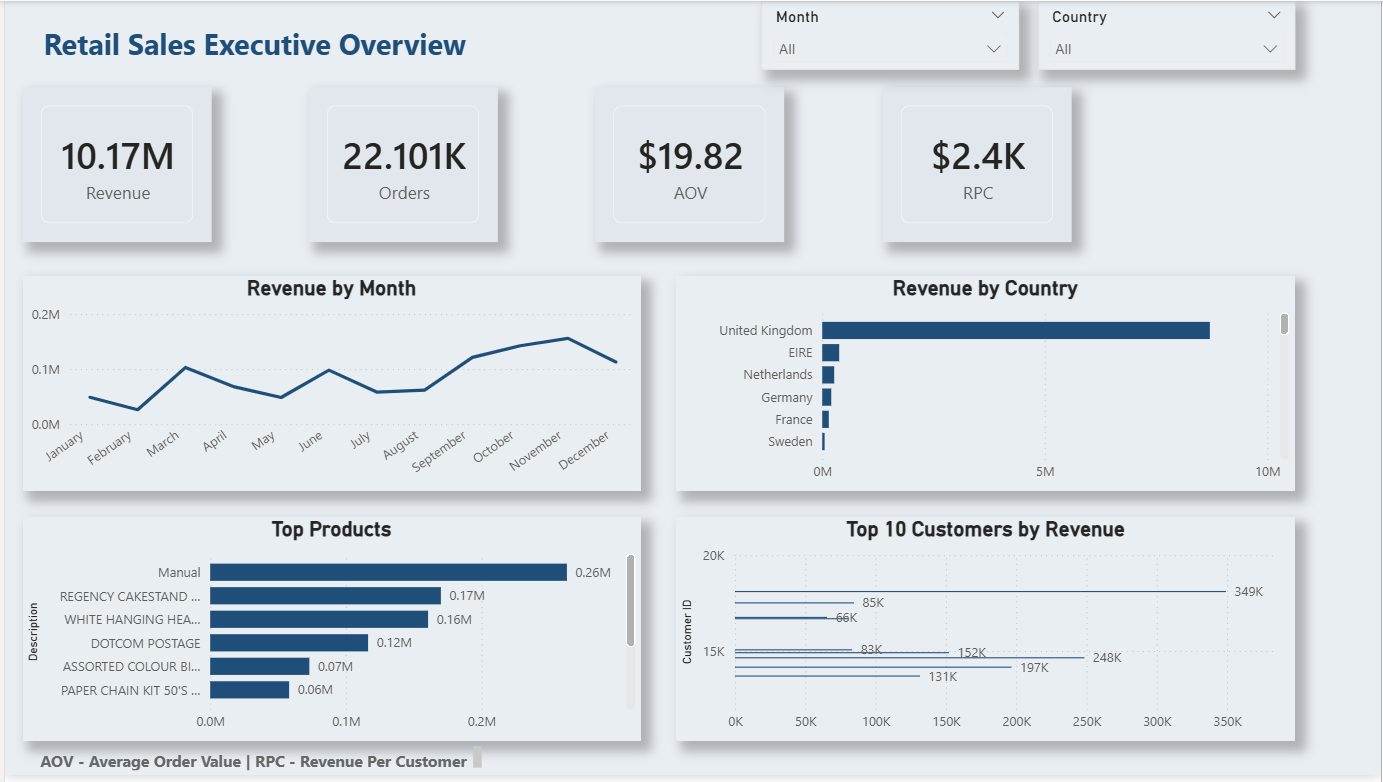

What the dashboard file says about the page in this screenshot:
{"tool":"powerbi","page":{"name":"Overview Dashboard","canvas":[1280,720],"ordinal":0},"visuals":[{"type":"cardVisual","fields":{"Data":["Sum(retail_powerbi_data.Revenue)"]},"box":[16,80,176,144],"z":0},{"type":"slicer","fields":{"Values":["retail_powerbi_data.Country"]},"box":[960,0,240,64],"z":1000},{"type":"lineChart","title":"Revenue by Month","fields":{"Category":["retail_powerbi_data.Month.Variation.Date Hierarchy.Month"],"Y":["Sum(retail_powerbi_data.Revenue)"]},"box":[16,256,575,200],"z":2000},{"type":"barChart","title":"Revenue by Country","fields":{"Y":["Sum(retail_powerbi_data.Revenue)"],"Category":["retail_powerbi_data.Country"]},"box":[624,256,575,200],"z":3000},{"type":"textbox","box":[16,16,432,48],"z":4000},{"type":"barChart","title":"Top Products","fields":{"Y":["Sum(retail_powerbi_data.Revenue)"],"Category":["retail_powerbi_data.Description"]},"box":[16,480,575,208],"z":5000},{"type":"clusteredBarChart","title":"Top 10 Customers by Revenue","fields":{"Category":["retail_powerbi_data.Customer ID"],"Y":["Sum(retail_powerbi_data.Revenue)"]},"box":[624,480,576,208],"z":6000},{"type":"cardVisual","fields":{"Data":["Count(retail_powerbi_data.Invoice)"]},"box":[282.7,80,176,144],"z":7000},{"type":"cardVisual","fields":{"Data":["Key Measures.Average order value"]},"box":[549.3,80,176,144],"z":9000},{"type":"cardVisual","fields":{"Data":["Key Measures.Revenue per Customer"]},"box":[816,80,176,144],"z":10000},{"type":"textbox","box":[16,688,432,32],"z":11000},{"type":"slicer","fields":{"Values":["retail_powerbi_data.Month"]},"box":[704,0,240,64],"z":12000}]}

Visuals, with their boxes in screenshot pixels (x1, y1, x2, y2), scaled from the page's 1280x720 canvas onto the 1383x782 screenshot:
cardVisual - Sum(retail_powerbi_data.Revenue): 17, 87, 207, 243
slicer - retail_powerbi_data.Country: 1037, 0, 1297, 70
"Revenue by Month" lineChart: 17, 278, 639, 495
"Revenue by Country" barChart: 674, 278, 1295, 495
textbox: 17, 17, 484, 70
"Top Products" barChart: 17, 521, 639, 747
"Top 10 Customers by Revenue" clusteredBarChart: 674, 521, 1297, 747
cardVisual - Count(retail_powerbi_data.Invoice): 305, 87, 496, 243
cardVisual - Key Measures.Average order value: 594, 87, 784, 243
cardVisual - Key Measures.Revenue per Customer: 882, 87, 1072, 243
textbox: 17, 747, 484, 781
slicer - retail_powerbi_data.Month: 761, 0, 1020, 70
